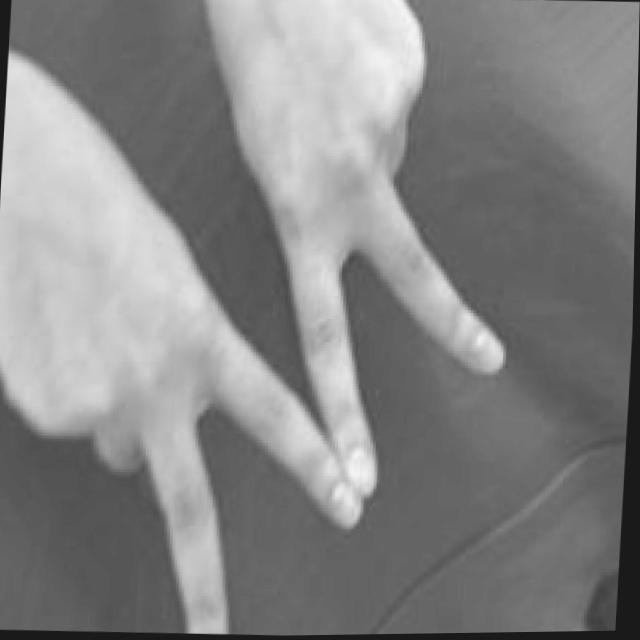M: (1, 88, 519, 640)
